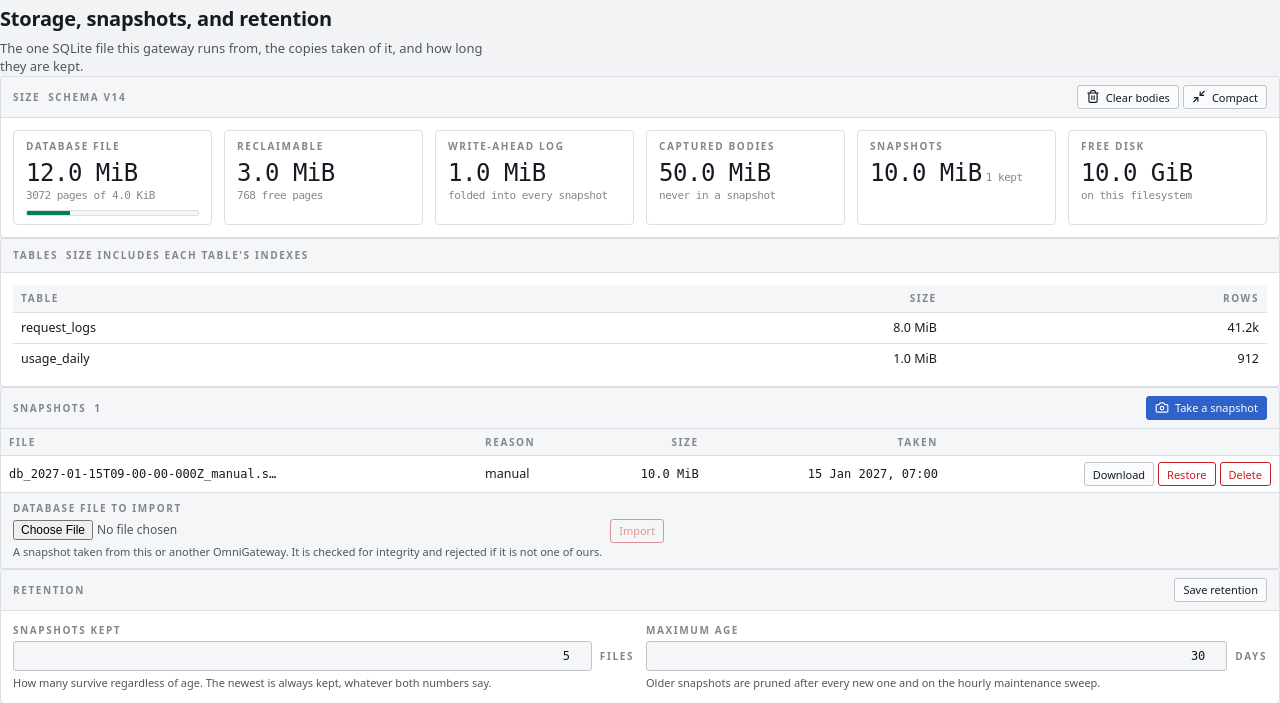
Test: DatabaseBoard › a retention bound below its floor is named and never sent
Replace the text in the number field labelled "Snapshots kept" with "0" at (302, 656), box [13, 641, 592, 671]
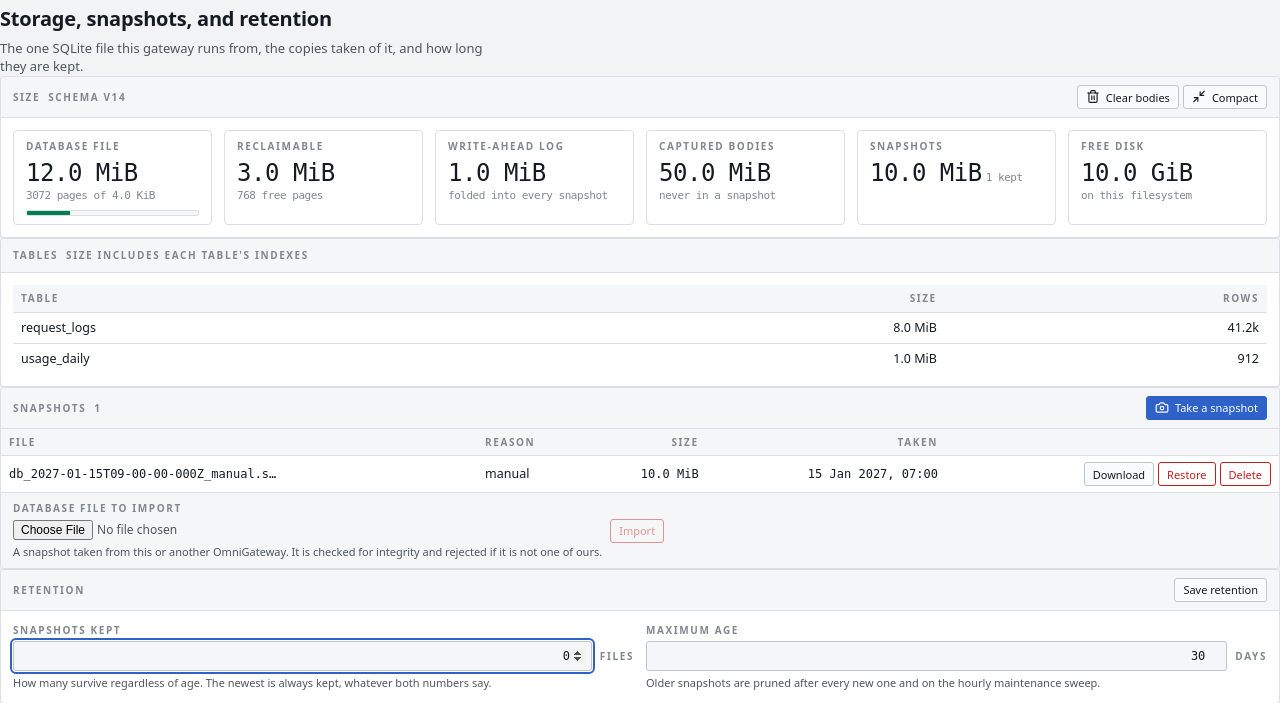
Click the button "Save retention".
click(1221, 590)  # box [1174, 578, 1267, 602]
(page scrolled)
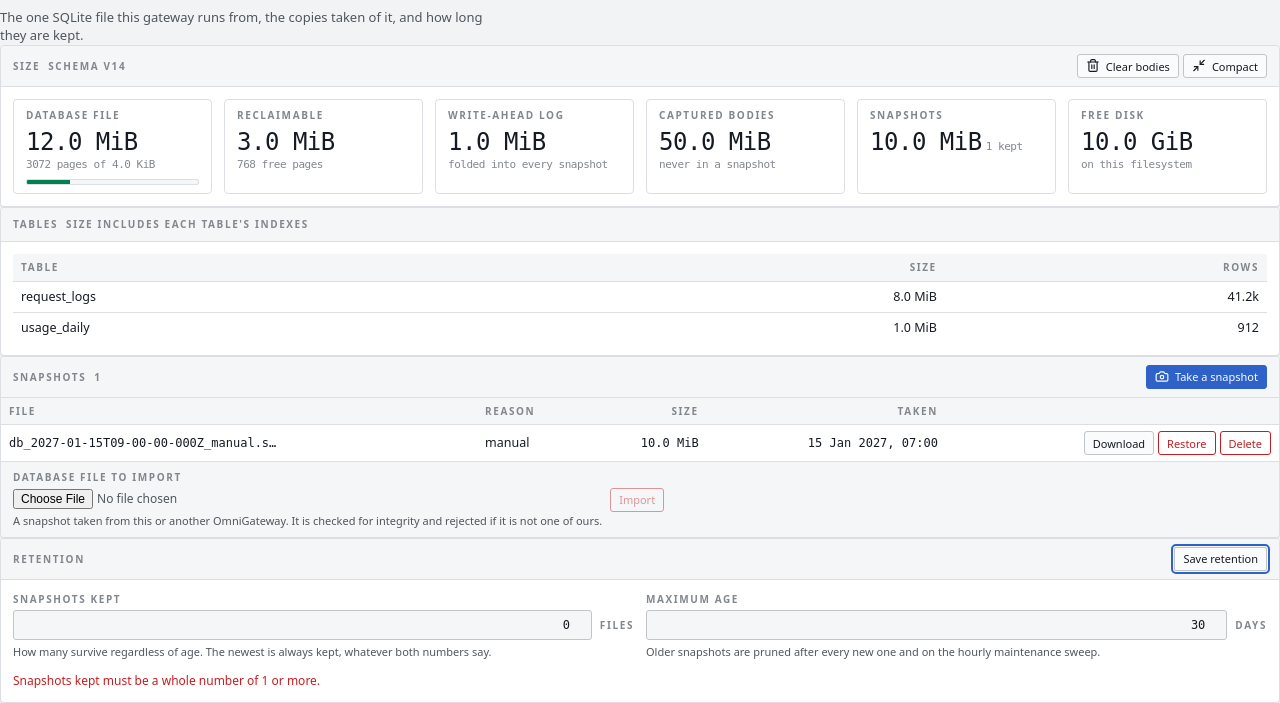
Check: the message reads "Snapshots kept must be a whole number of 1 or more.", box [13, 672, 320, 689]
